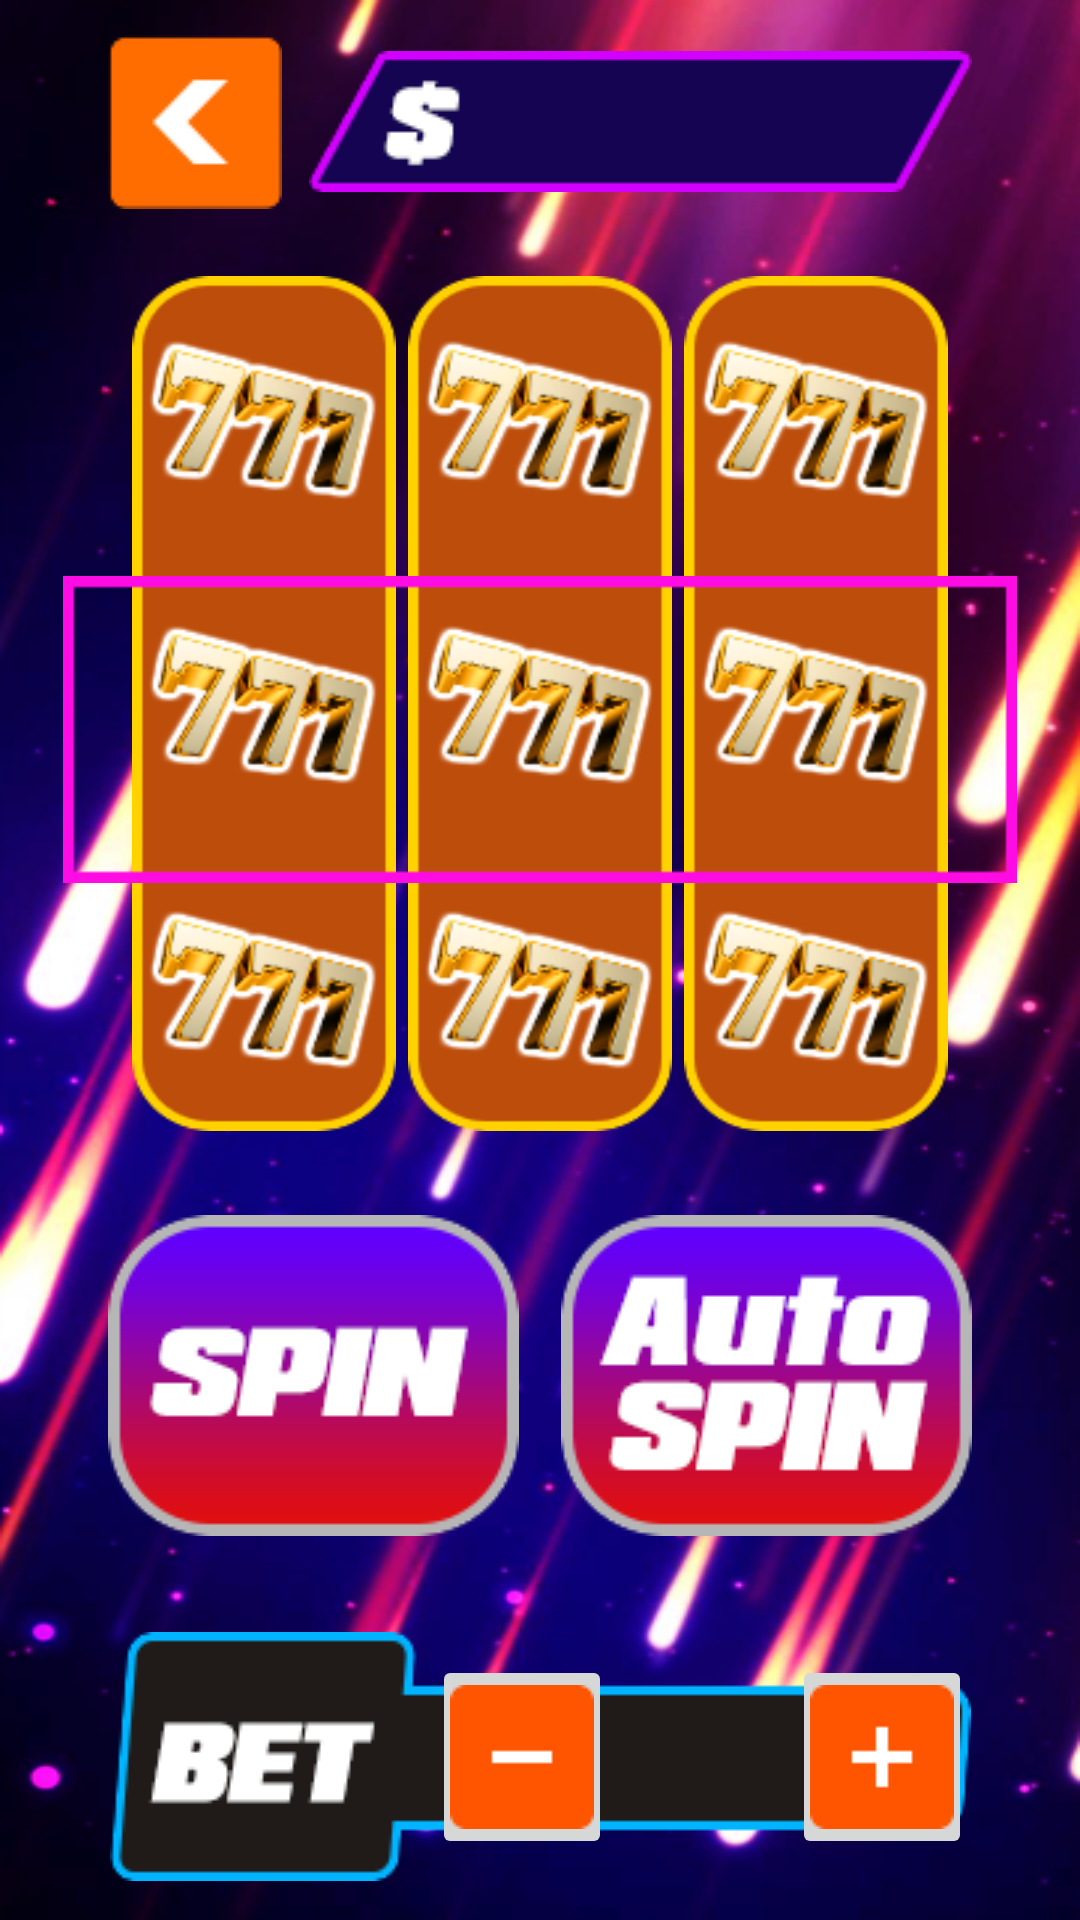

Named icons in this screenshot (1080*1920) and their bounding boxes, (x1, y1, x2, y2):
back: (108, 35, 282, 209)
